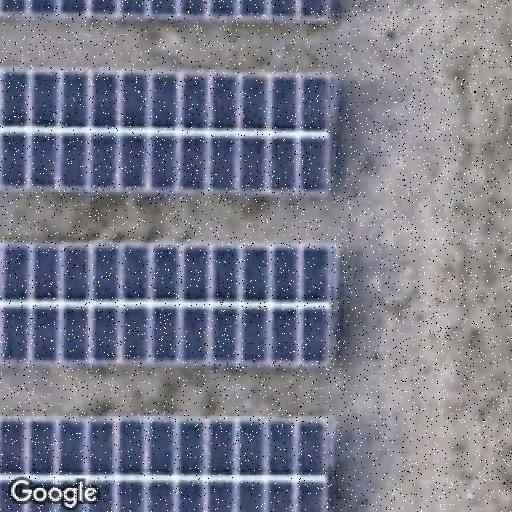solar-panel: (0, 67, 339, 200), (0, 242, 341, 368), (0, 414, 333, 512), (0, 0, 347, 32)
